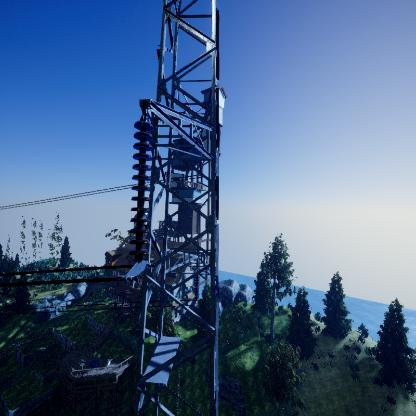insulator: (126, 118, 159, 263)
